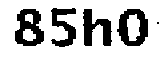0: (117, 5, 151, 50)
5: (48, 6, 78, 51)
8: (12, 3, 46, 49)
h: (82, 6, 114, 47)
